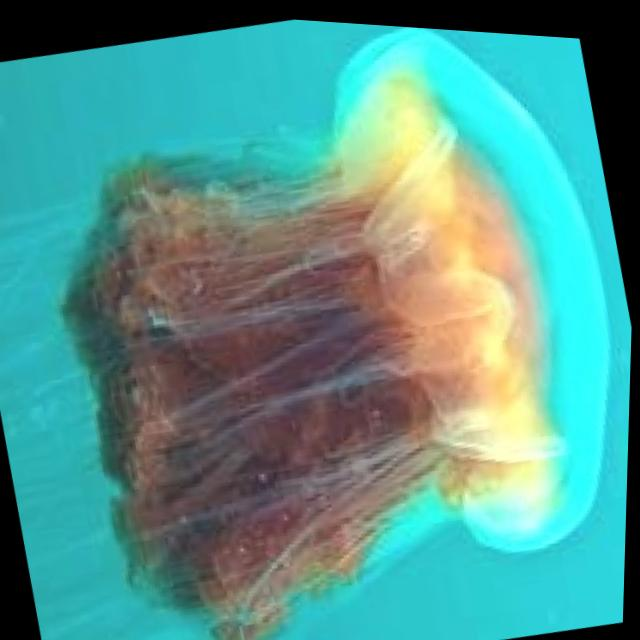Box-jellyfish: (8, 1, 640, 640)
